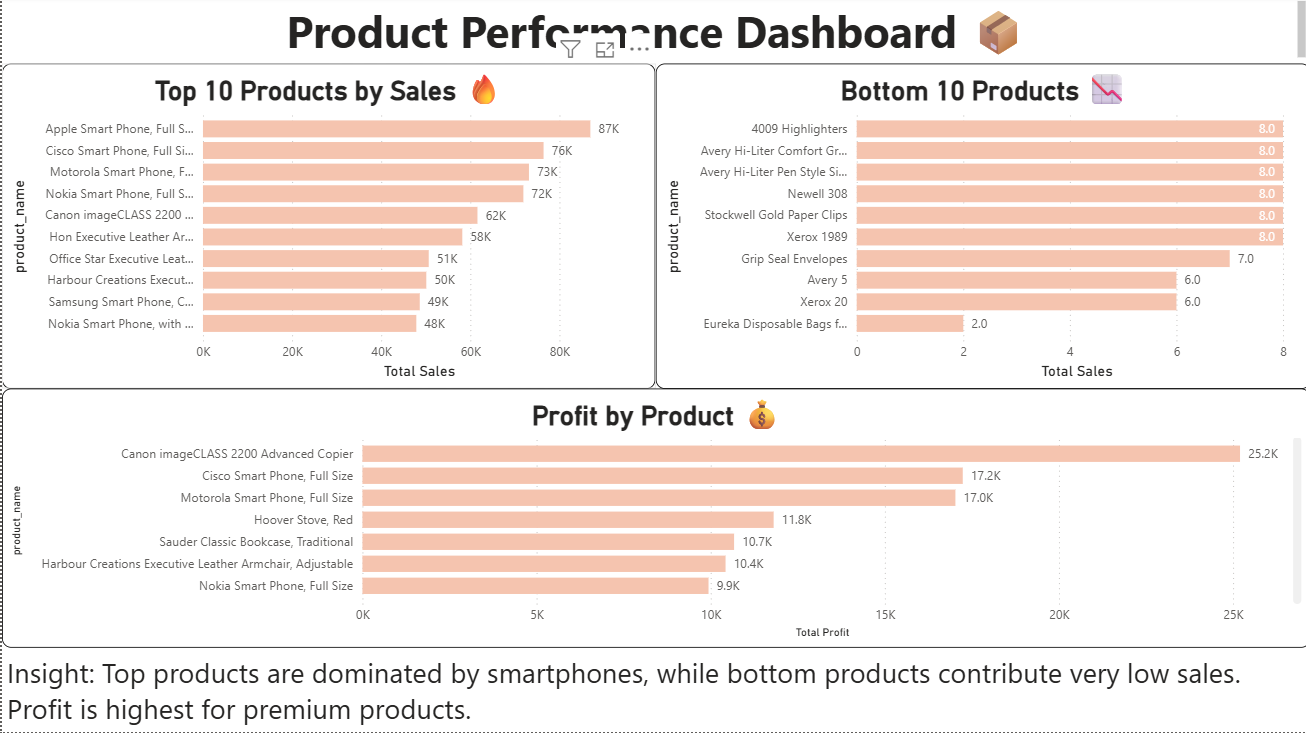

What the dashboard file says about the page in this screenshot:
{"tool":"powerbi","page":{"name":"Product Performance","canvas":[1280,720],"ordinal":2},"visuals":[{"type":"textbox","box":[9.6,0,1270.7,65.9],"z":0},{"type":"clusteredBarChart","title":"Top 10 Products by Sales 🔥","fields":{"Category":["Sales_Data.product_name"],"Y":["Sales_Data.Total Sales"]},"box":[0,65.9,639.5,318.4],"z":1000},{"type":"clusteredBarChart","title":"Bottom 10 Products 📉","fields":{"Category":["Sales_Data.product_name"],"Y":["Sales_Data.Total Sales"]},"box":[639.5,65.9,640.8,318.4],"z":2000},{"type":"barChart","title":"Profit by Product 💰","fields":{"Category":["Sales_Data.product_name"],"Y":["Sales_Data.Total Profit"]},"box":[0,384.2,1280.3,253.9],"z":3000},{"type":"textbox","box":[0,638.1,1280.3,82.3],"z":4000}]}

Visuals, with their boxes in screenshot pixels (x1, y1, x2, y2), scaled from the page's 1280x720 canvas onto the 1306x733 screenshot:
textbox: rect(10, 0, 1305, 67)
"Top 10 Products by Sales 🔥" clusteredBarChart: rect(0, 67, 652, 391)
"Bottom 10 Products 📉" clusteredBarChart: rect(652, 67, 1305, 391)
"Profit by Product 💰" barChart: rect(0, 391, 1305, 650)
textbox: rect(0, 650, 1305, 732)
